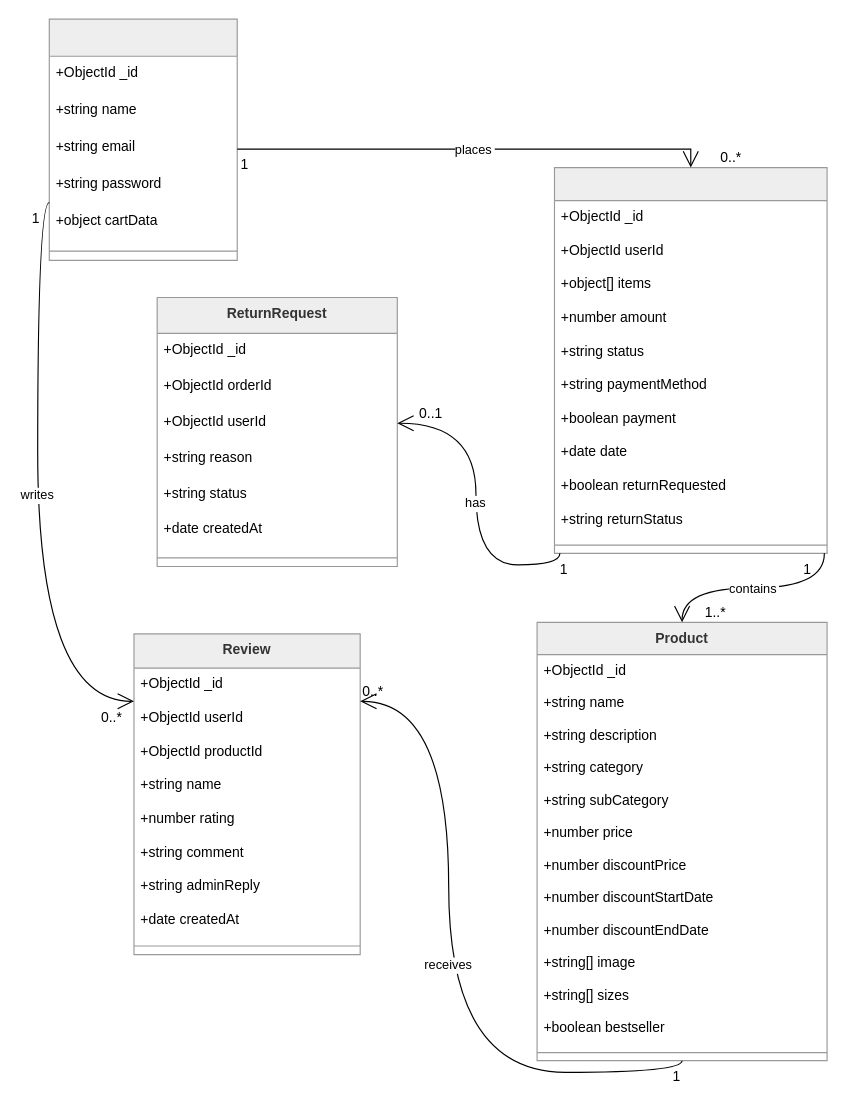
This 846x1103 diagram has some shape labels left out. Each missing label, with the box of its shape:
Order: (553, 166, 827, 553)
User: (48, 18, 237, 260)
